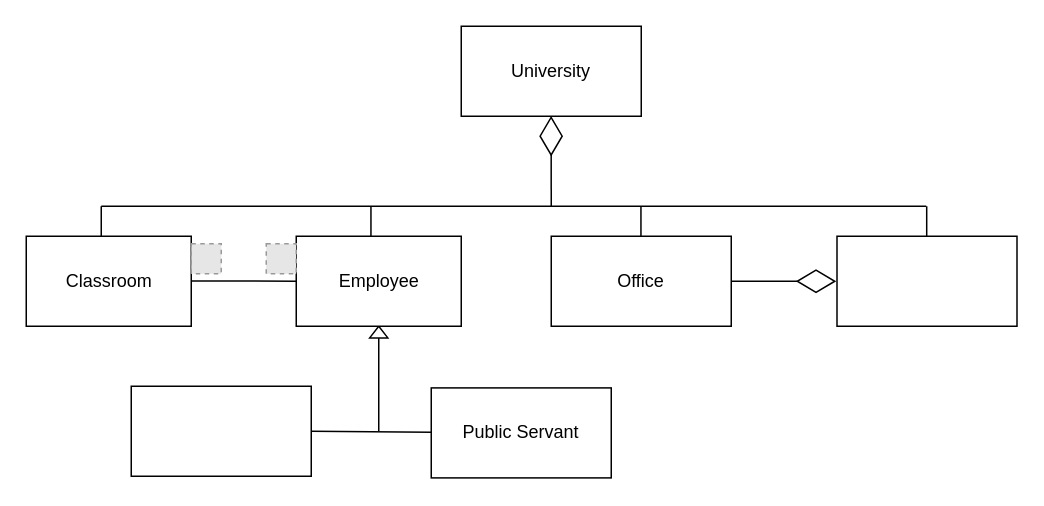
Some shapes in this 1044 by 506 pixel diagram are drawn without their labels. Grey dashed boxes stand in for pictures. Here are the shapes that lost their labels. From the top down, the box of each, then its label:
(836, 235, 1017, 326): Department
(130, 385, 311, 476): Professor
